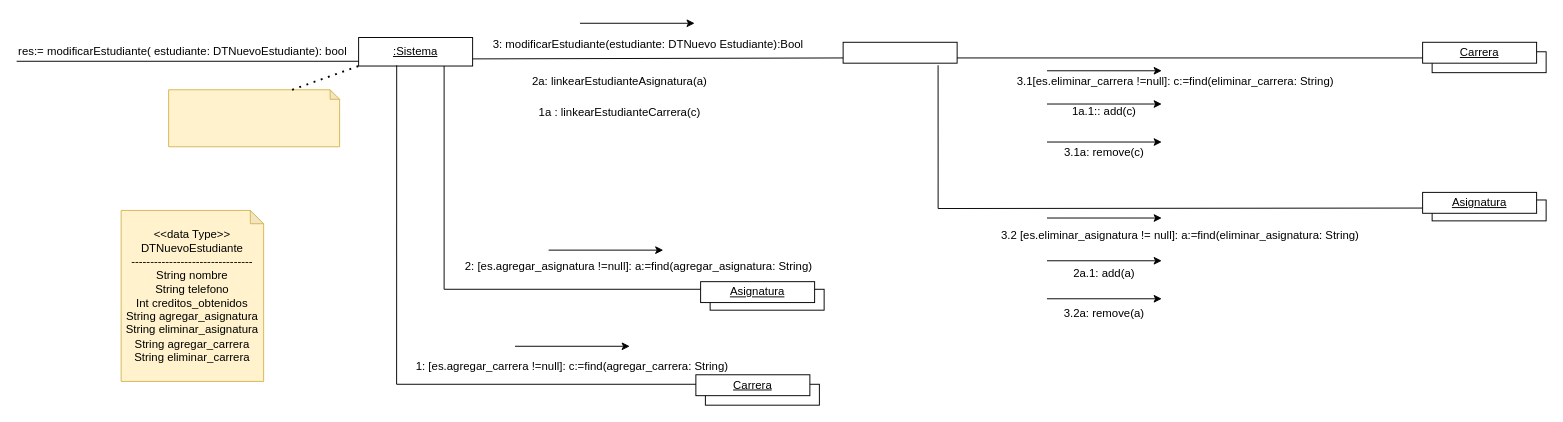
The diagram is 1563 pixels wide and 422 high, and some of its shapes have lost their labels. The box of each missing label's shape, as (x1, y1, x2, y2) in pixels:
El sistema recuerda la instacia es de Estudiante y lo devuelve en res: (168, 89, 340, 147)
es:Estudiante: (842, 41, 957, 63)
